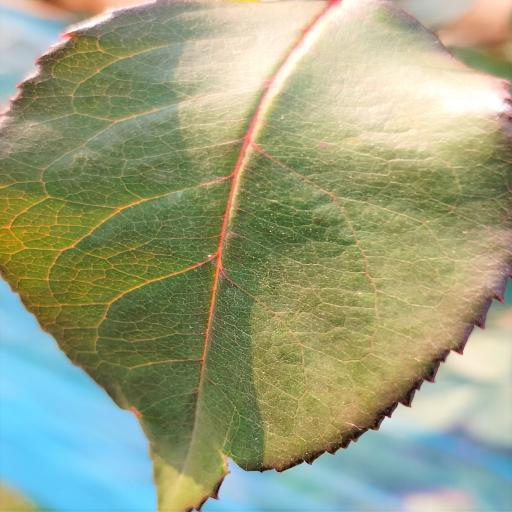healthy_leaf: (1, 0, 512, 512)
